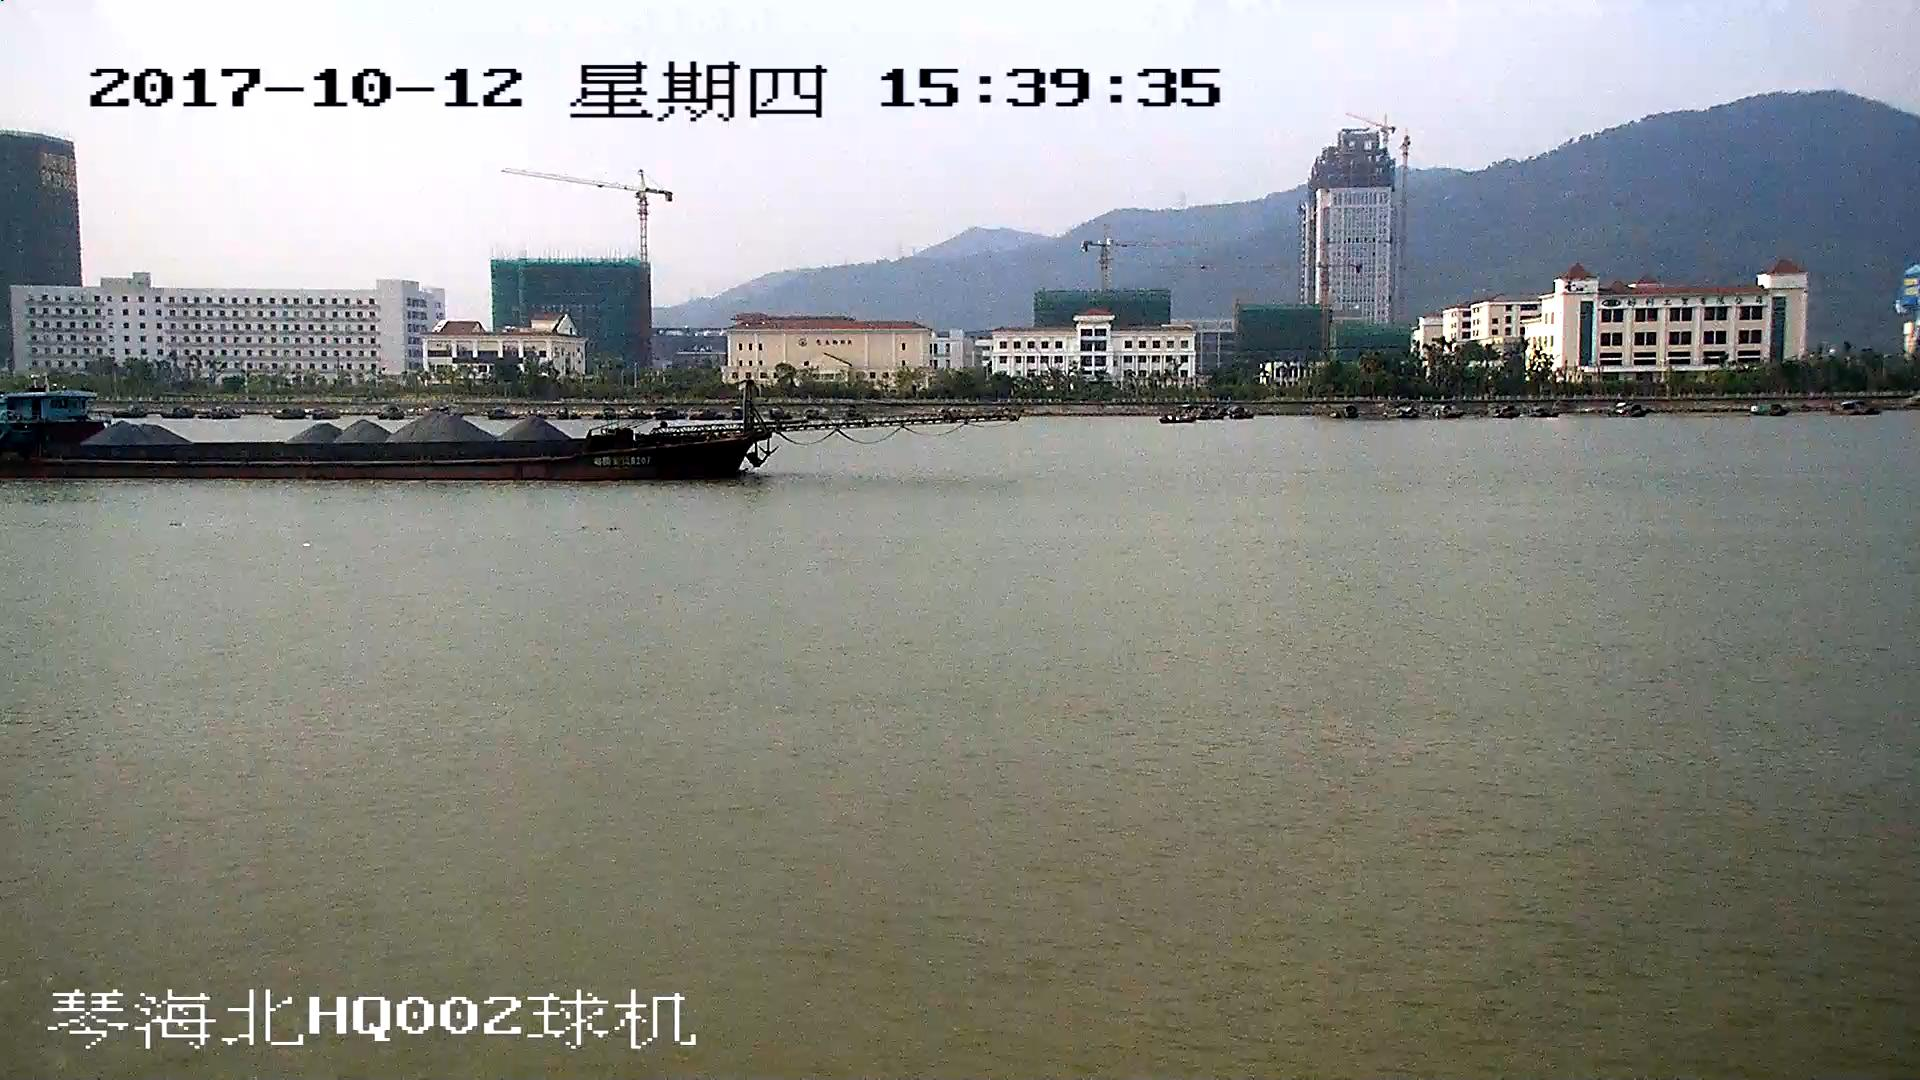ore carrier: (1, 383, 986, 483)
